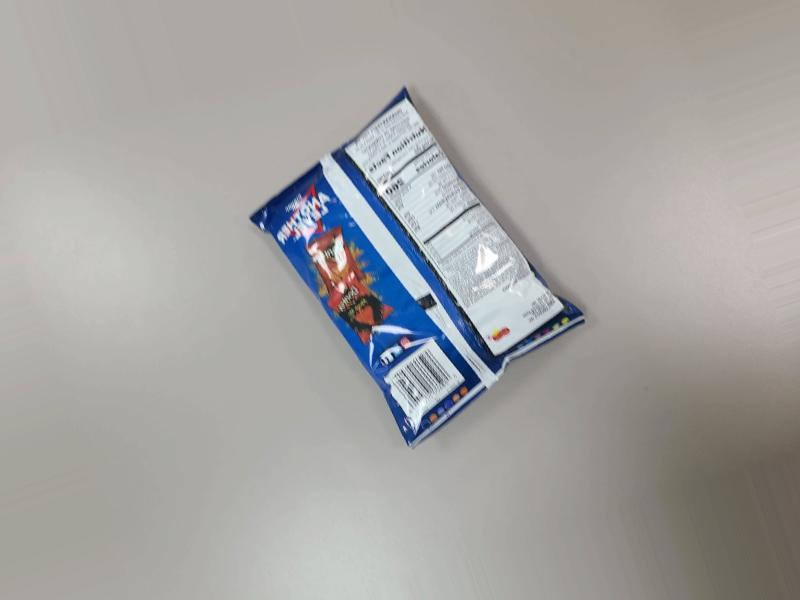doritos: (243, 89, 581, 444)
